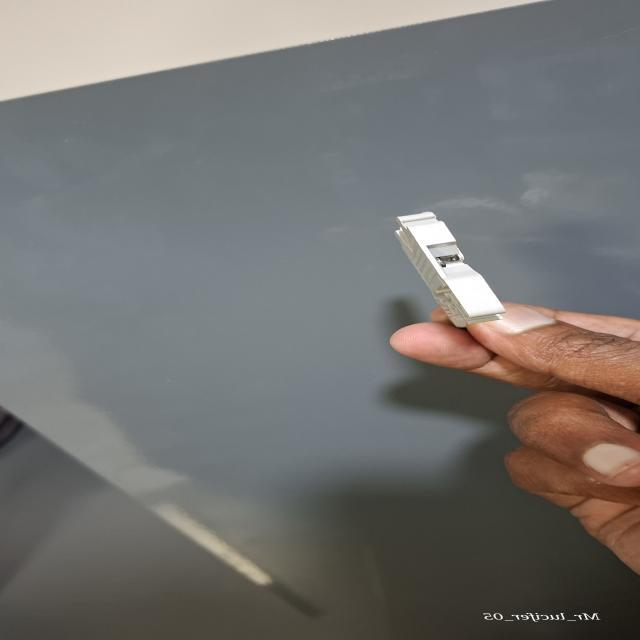Inverted: (368, 203, 520, 329)
